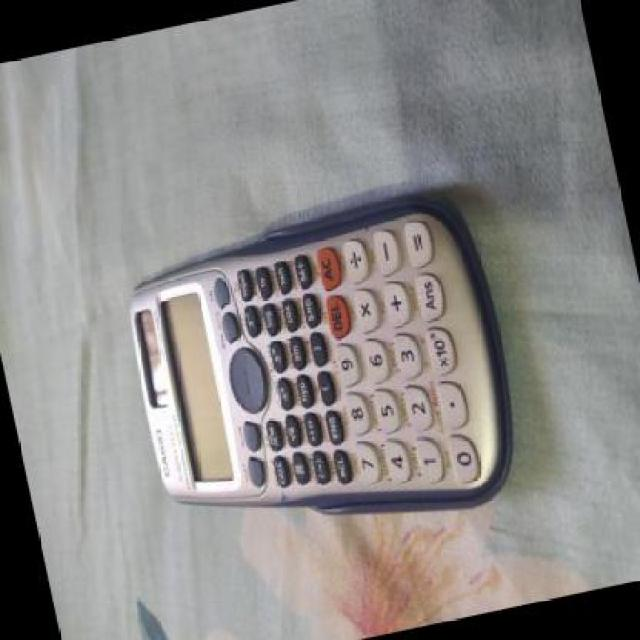Calculator: (101, 147, 547, 581)
